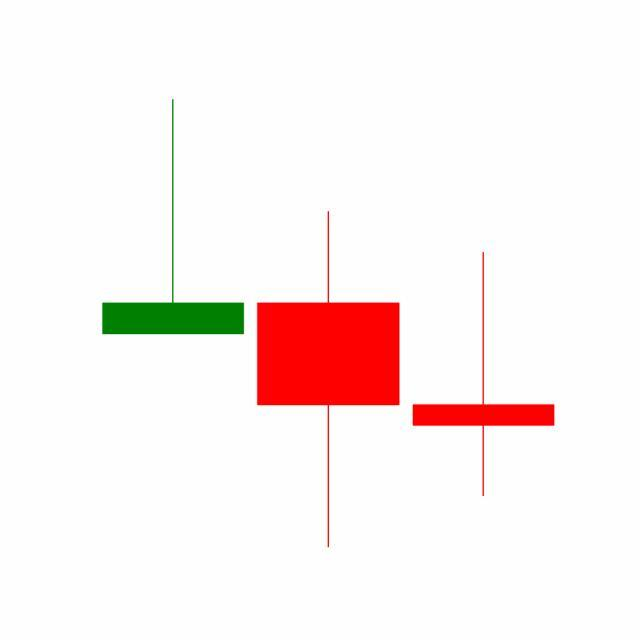Spinning Top: (406, 250, 562, 500)
